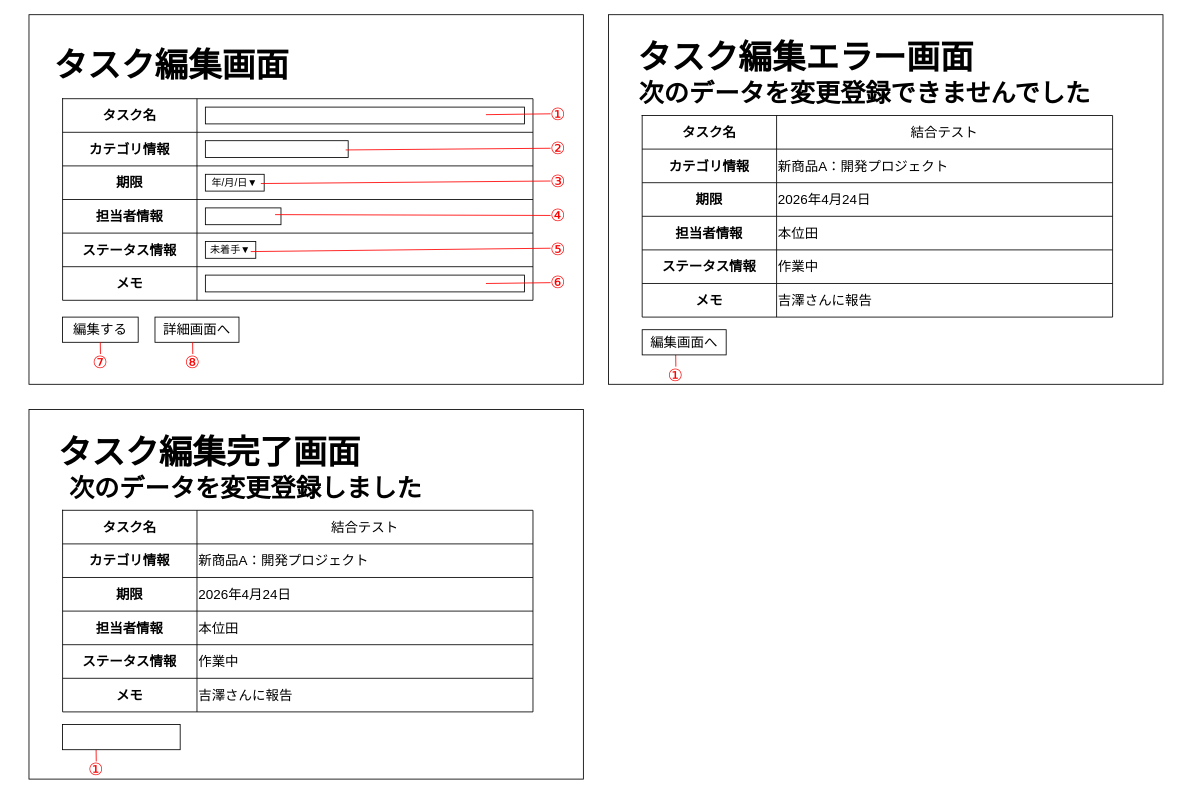
Image size: 1178x794. Some labels were removed from this diagram. The shapes that lost their labels are listed below. From the top down, each one's centre as x and y in pixels, then its label:
At pixel 276 149: "新商品A：開発プロジェクト▼".
At pixel 243 216: "本位田順也▼".
At pixel 121 737: "メニュー画面へ".
